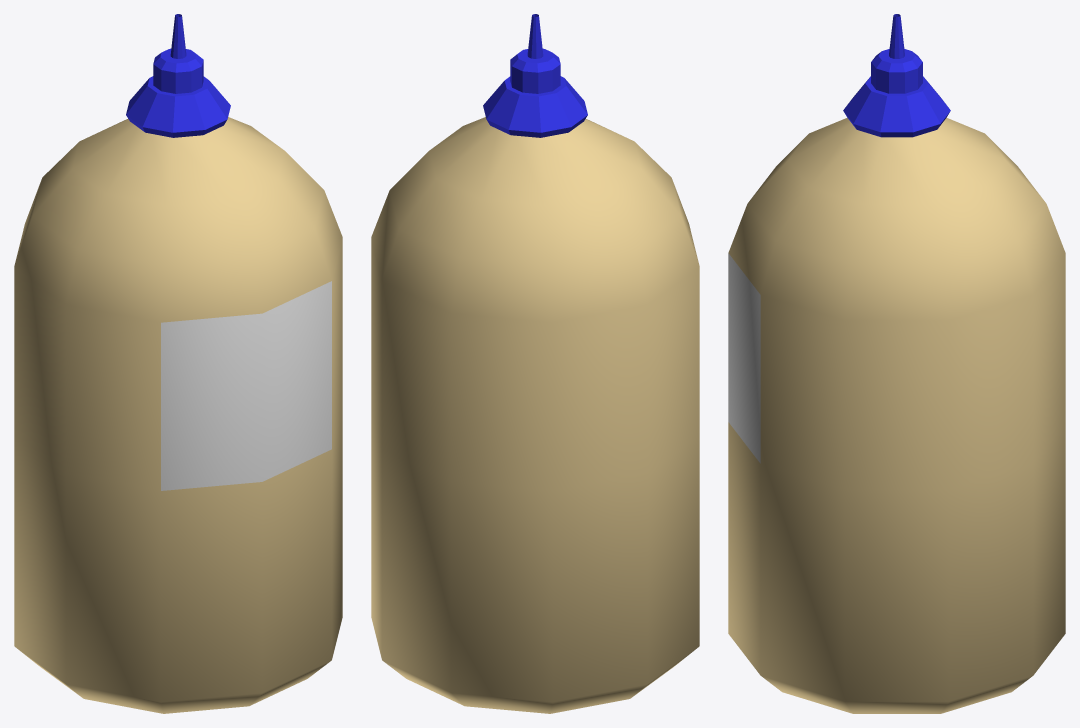
The model's file is Bottle.fbx.
The picture shows the model from 3 angles, left to right: view 1: azimuth 30°, elevation 25°; view 2: azimuth 150°, elevation 25°; view 3: azimuth 270°, elevation 25°; orthographic projection.
Parts seen in each view (by area): view 1: Bottle; view 2: Bottle; view 3: Bottle.
Boxes of the visible parts, left/top/right/bottom form: Bottle: left=14, top=14, right=342, bottom=713; Bottle: left=371, top=14, right=699, bottom=713; Bottle: left=728, top=14, right=1065, bottom=713.
Size of the model in its own units: 177 by 390 by 186.
